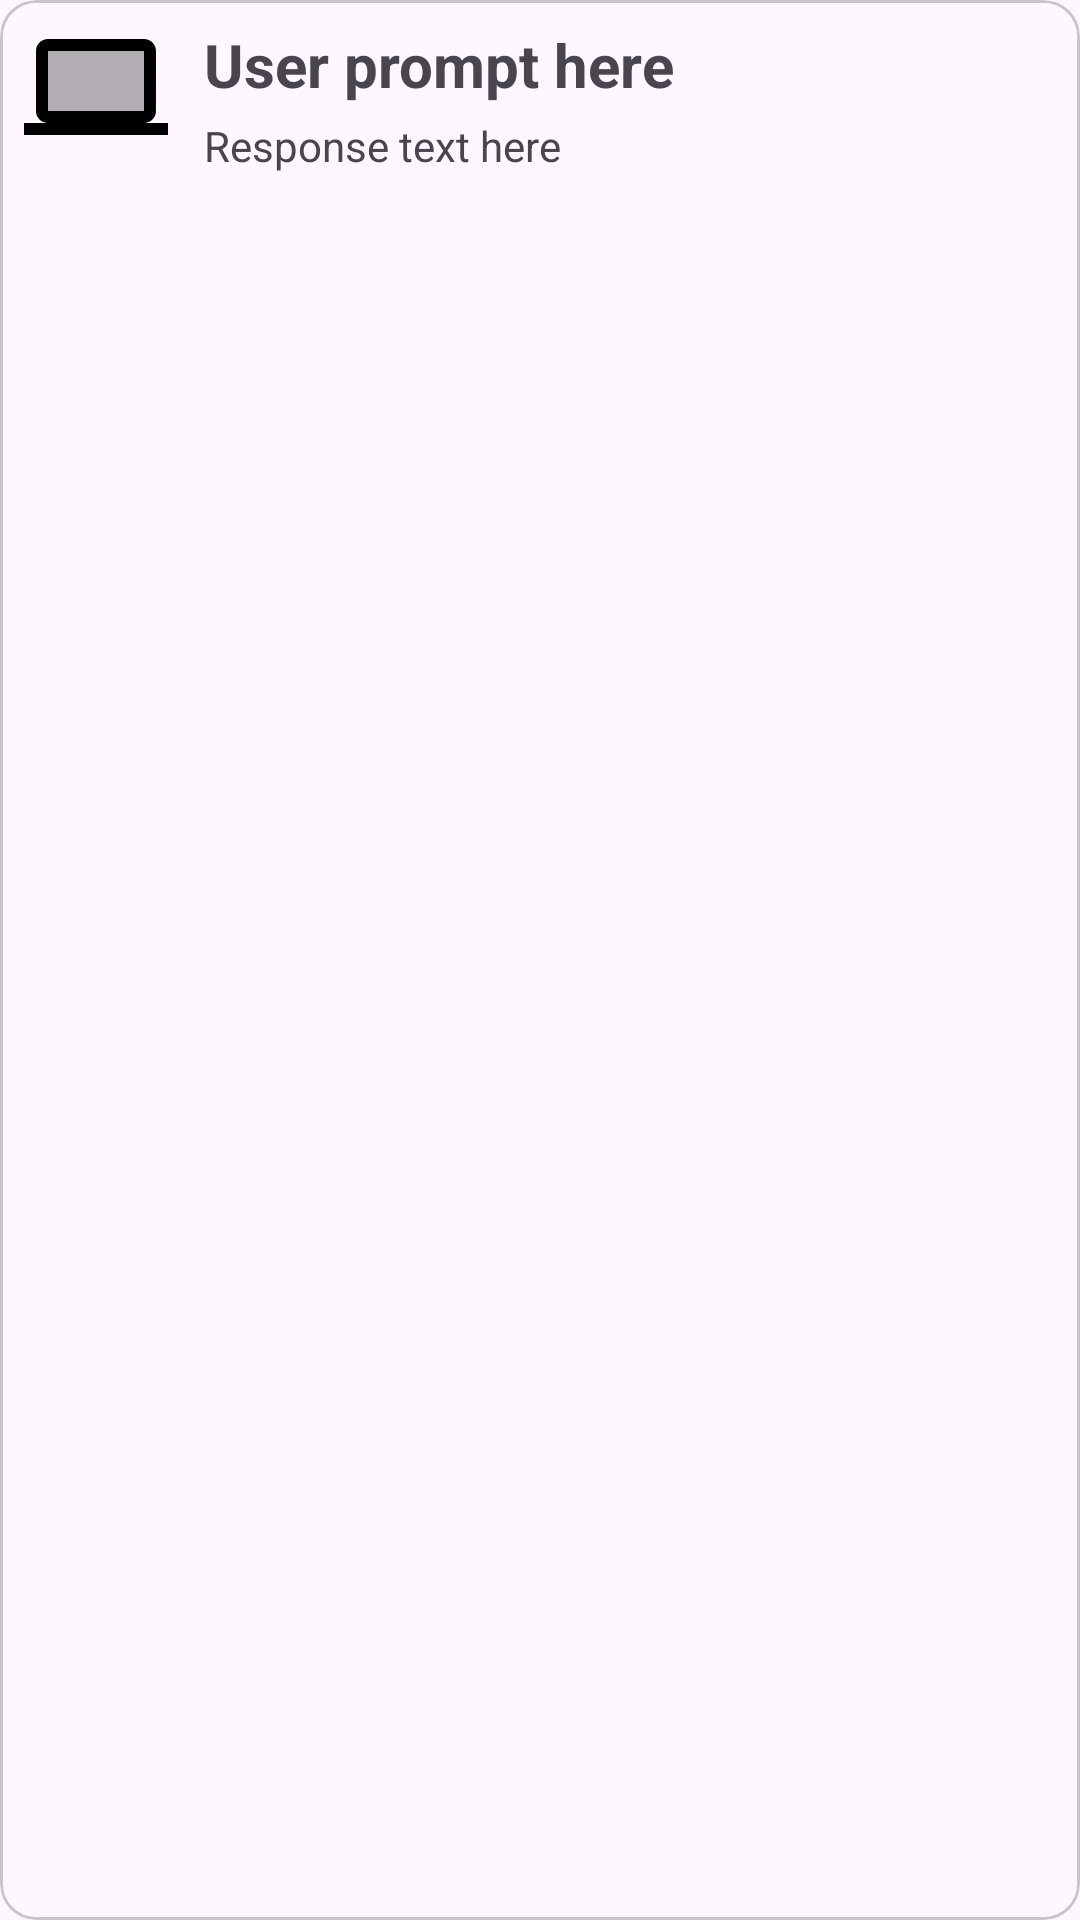

Where to tap for icons on this 1080w x 1920h app screen, as [x,y]:
computer: [96,87]
